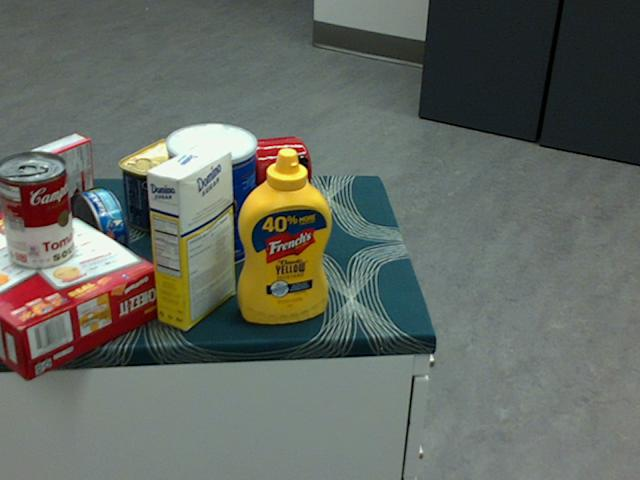cracker_box: (0, 194, 160, 380)
gelatin_box: (23, 133, 92, 210)
large_marker: (293, 155, 308, 248)
master_chef_can: (163, 122, 254, 268)
mug: (228, 135, 309, 207)
mustard_bottle: (237, 147, 331, 323)
potted_meat_can: (117, 137, 193, 231)
sugar_box: (145, 143, 235, 329)
tomato_soup_can: (0, 152, 74, 269)
tuna_fish_can: (67, 188, 126, 265)
